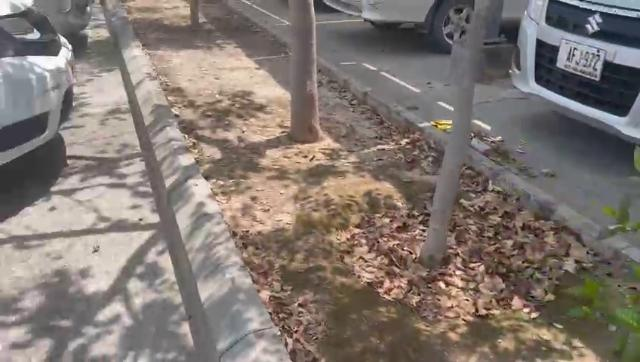plate: (555, 39, 607, 82)
